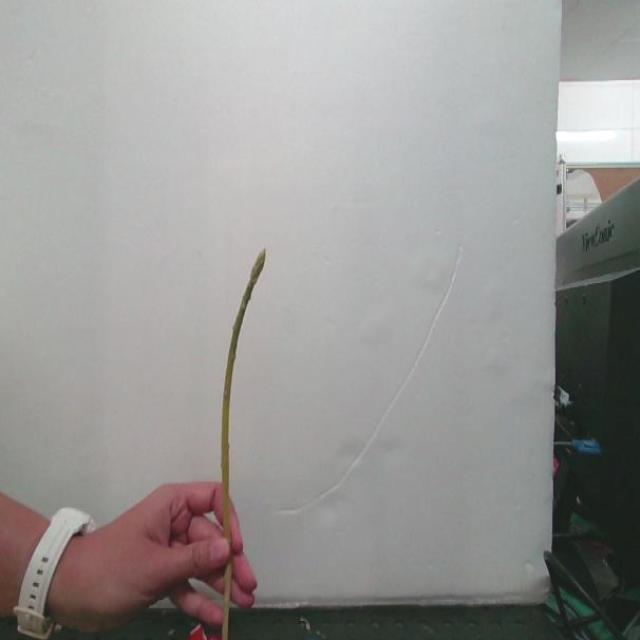aspargus: (215, 250, 266, 564)
